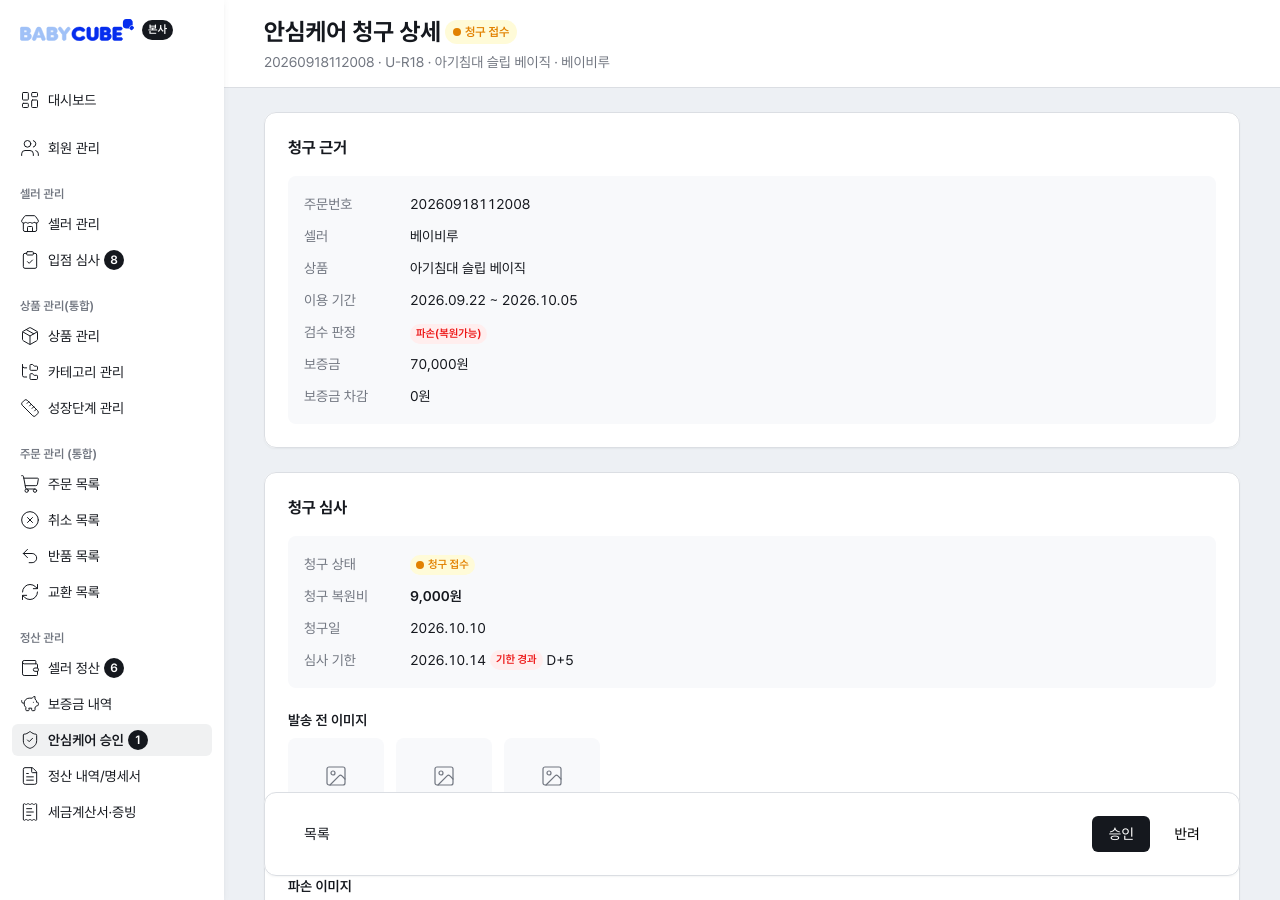
CareClaimDetailPage (S14-D 안심케어 청구 상세) › 접수 건 — U-R18 (베이비루 9,000원) › [승인] — 목록과 같은 창(1건 · 9,000원), 처리하면 토스트만
Click the button "승인". click: click(1121, 834)
box: left=1092, top=816, right=1150, bottom=852
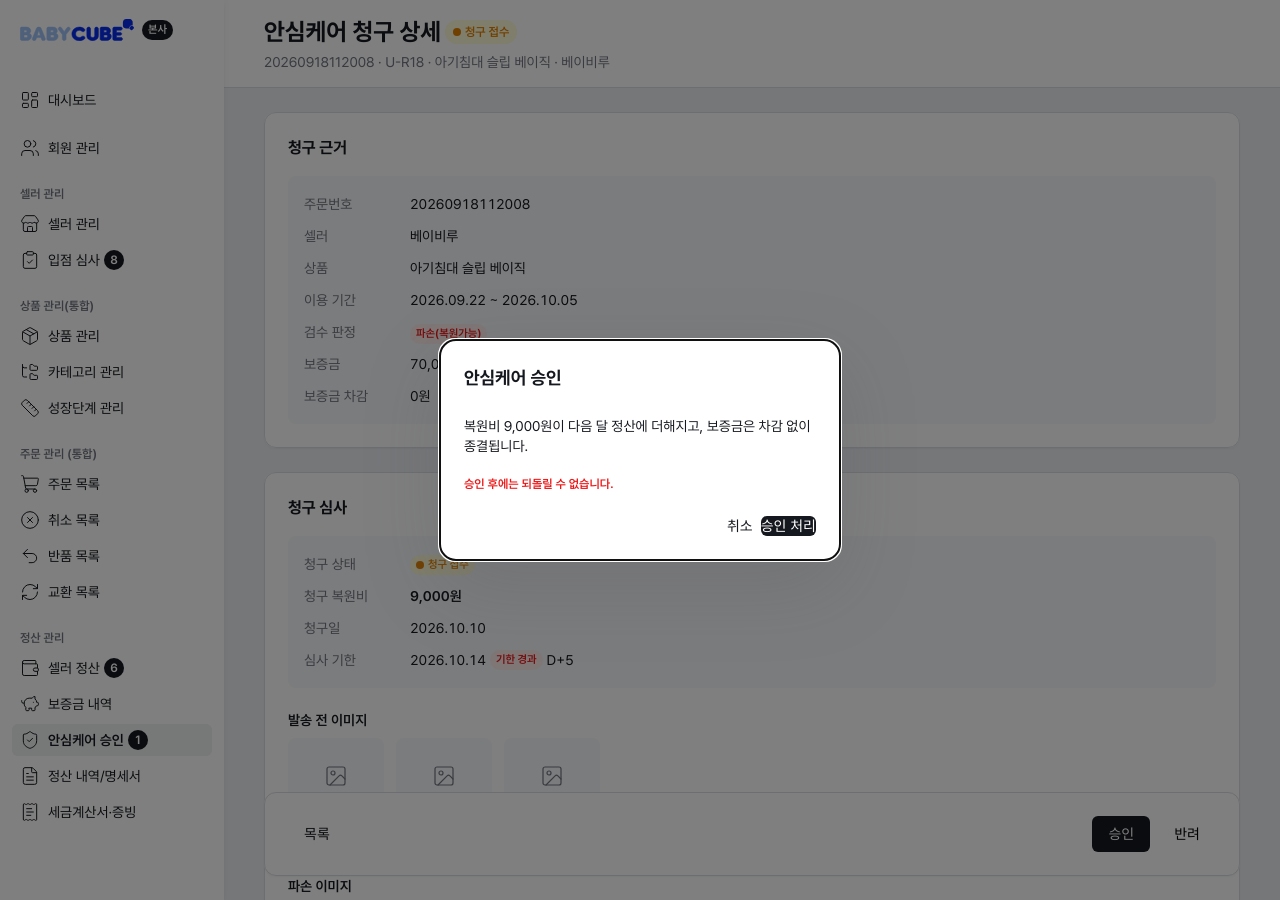
Expected: the text "복원비 9,000원이 다음 달 정산에 더해지고, 보증금은 차감 없이 종결됩니다." is shown, left=464, top=416, right=816, bottom=456
Click the button "승인 처리". click: click(788, 526)
box: left=761, top=516, right=816, bottom=536
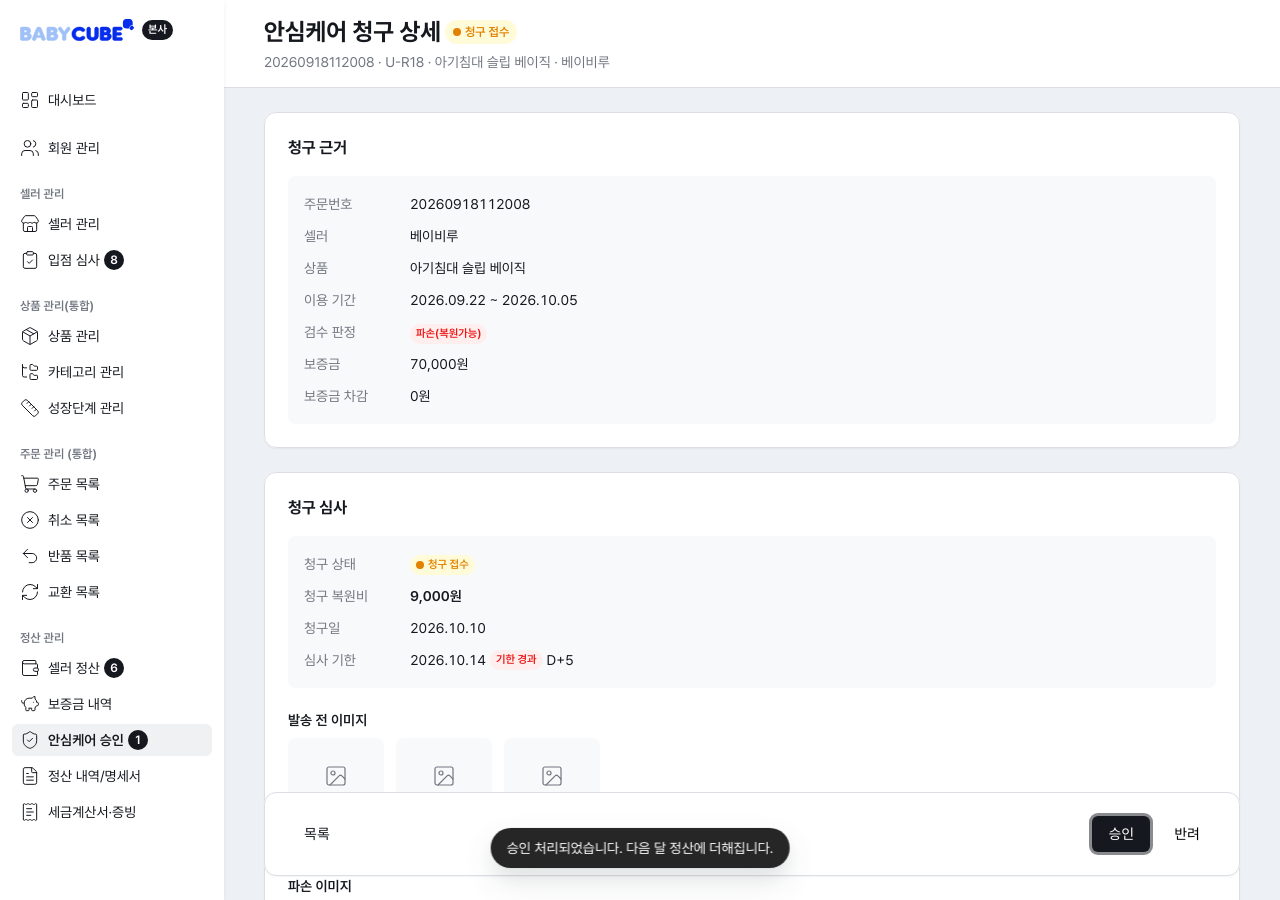
Expected: the element showing "청구 접수" is shown, left=445, top=20, right=517, bottom=44
Expected: the text "승인 처리되었습니다. 다음 달 정산에 더해집니다." is shown, left=491, top=828, right=789, bottom=868
